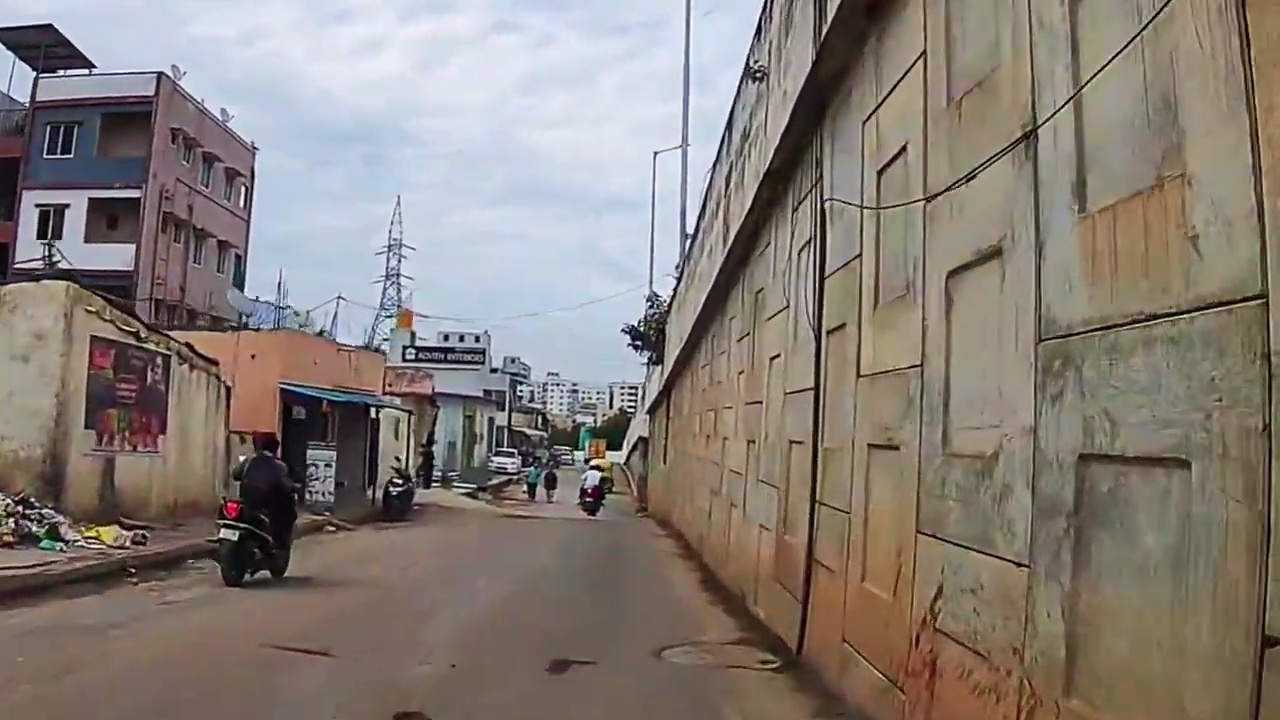garbage: (8, 493, 132, 548)
